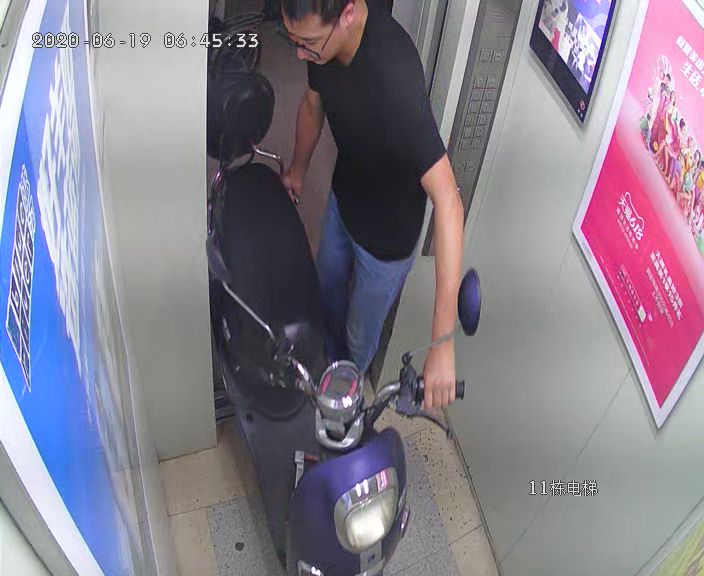Electric-bicycle: (207, 73, 480, 567)
